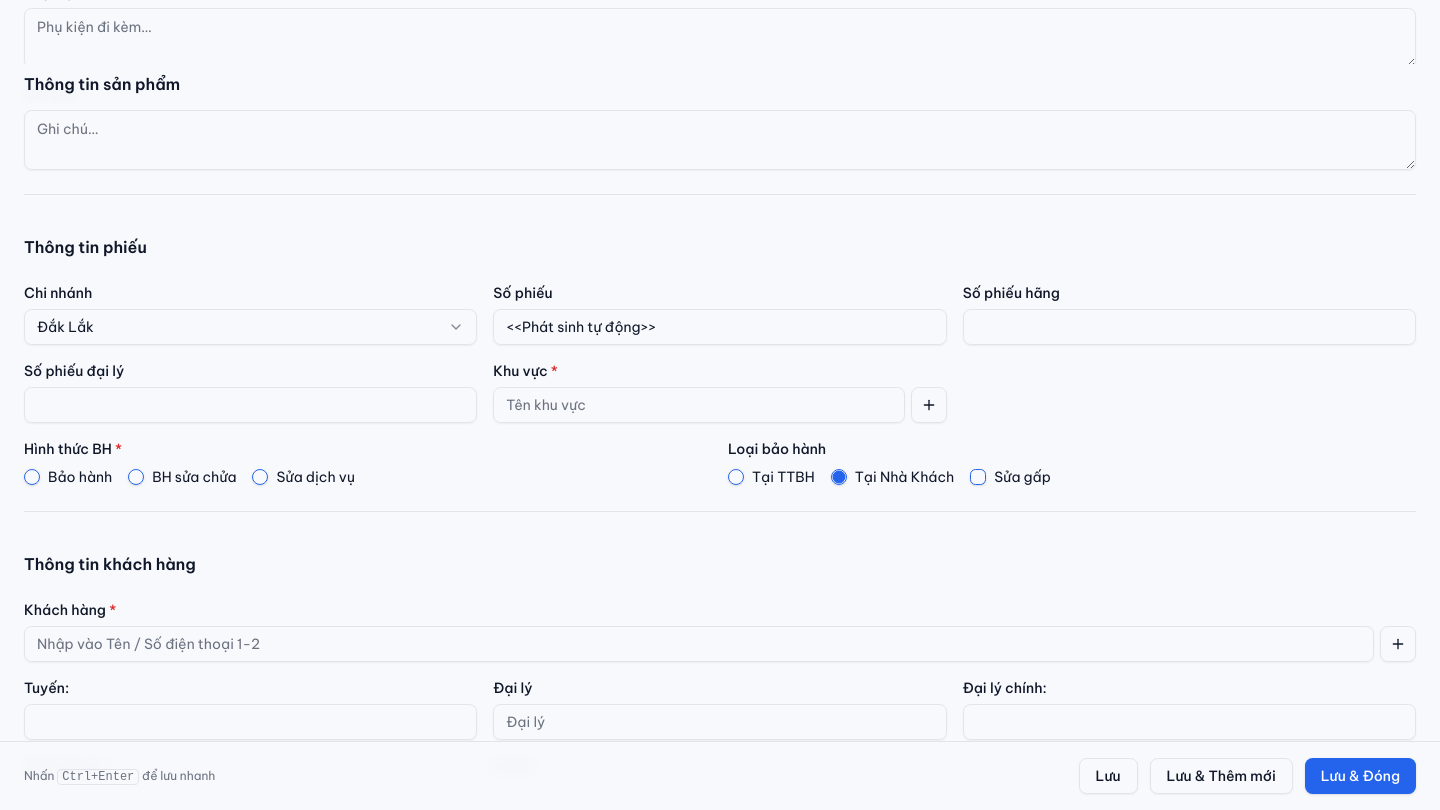
Test: RepairCreateForm › searches the same active Khu Vực catalog used by master data
(page scrolled)
Click the dropdown labelled "Tên khu vực".
click(699, 405)  # box left=493, top=387, right=905, bottom=423
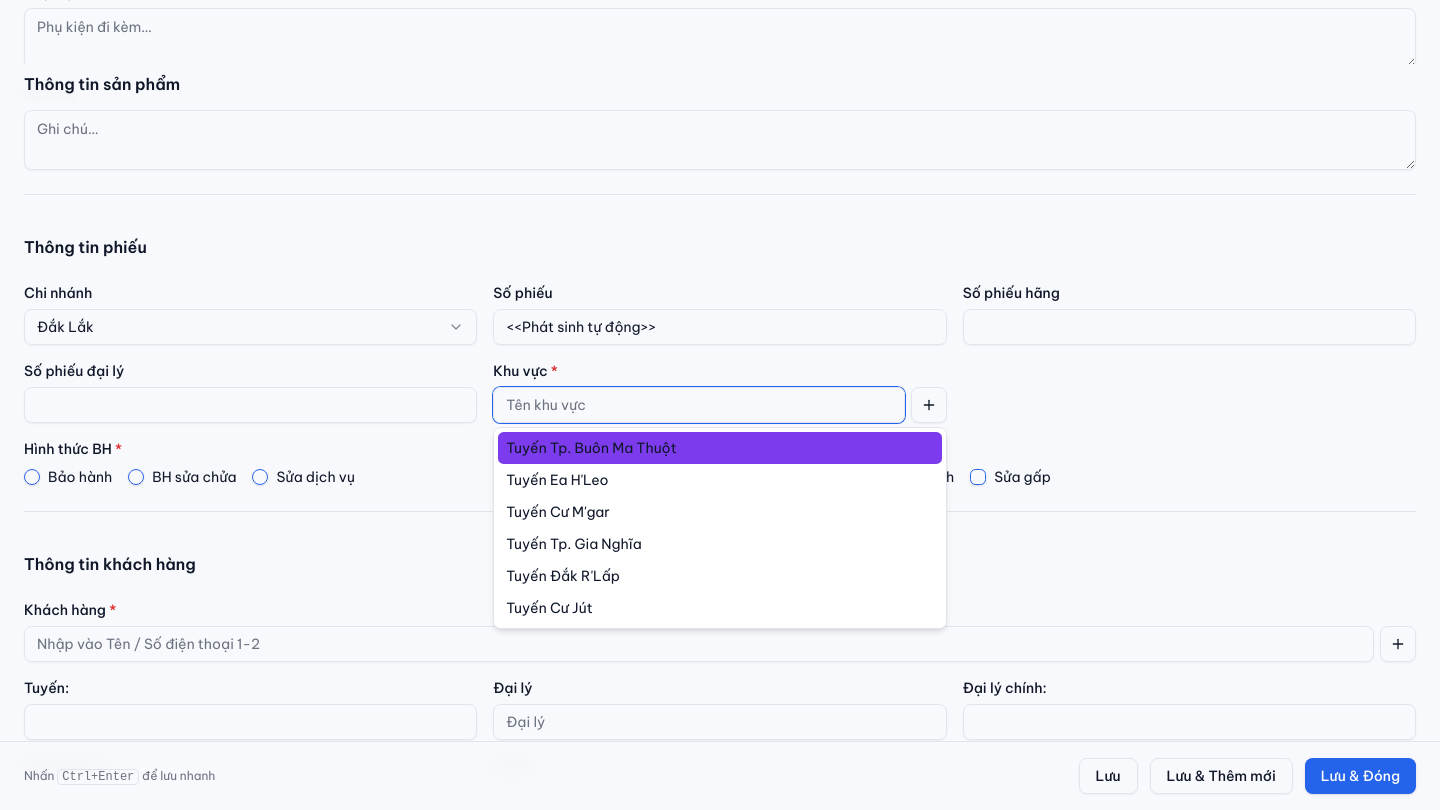
Check: the option "Tuyến Tp. Buôn Ma Thuột" is shown, box left=498, top=432, right=942, bottom=464
